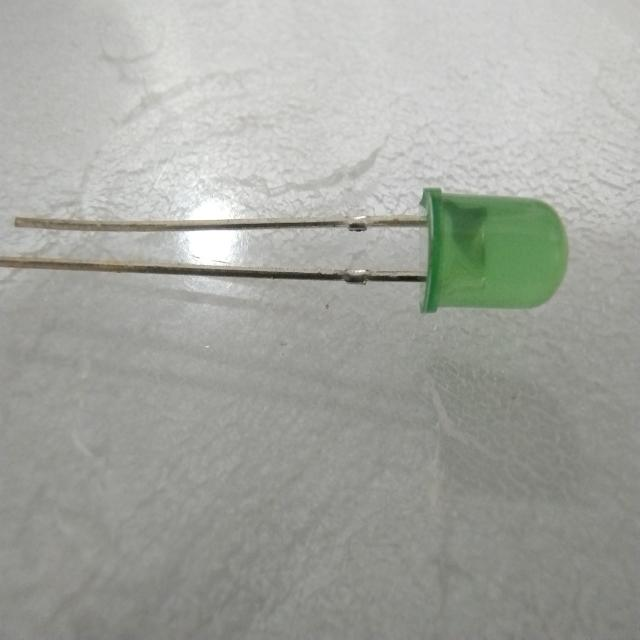green_led: (407, 172, 578, 336)
